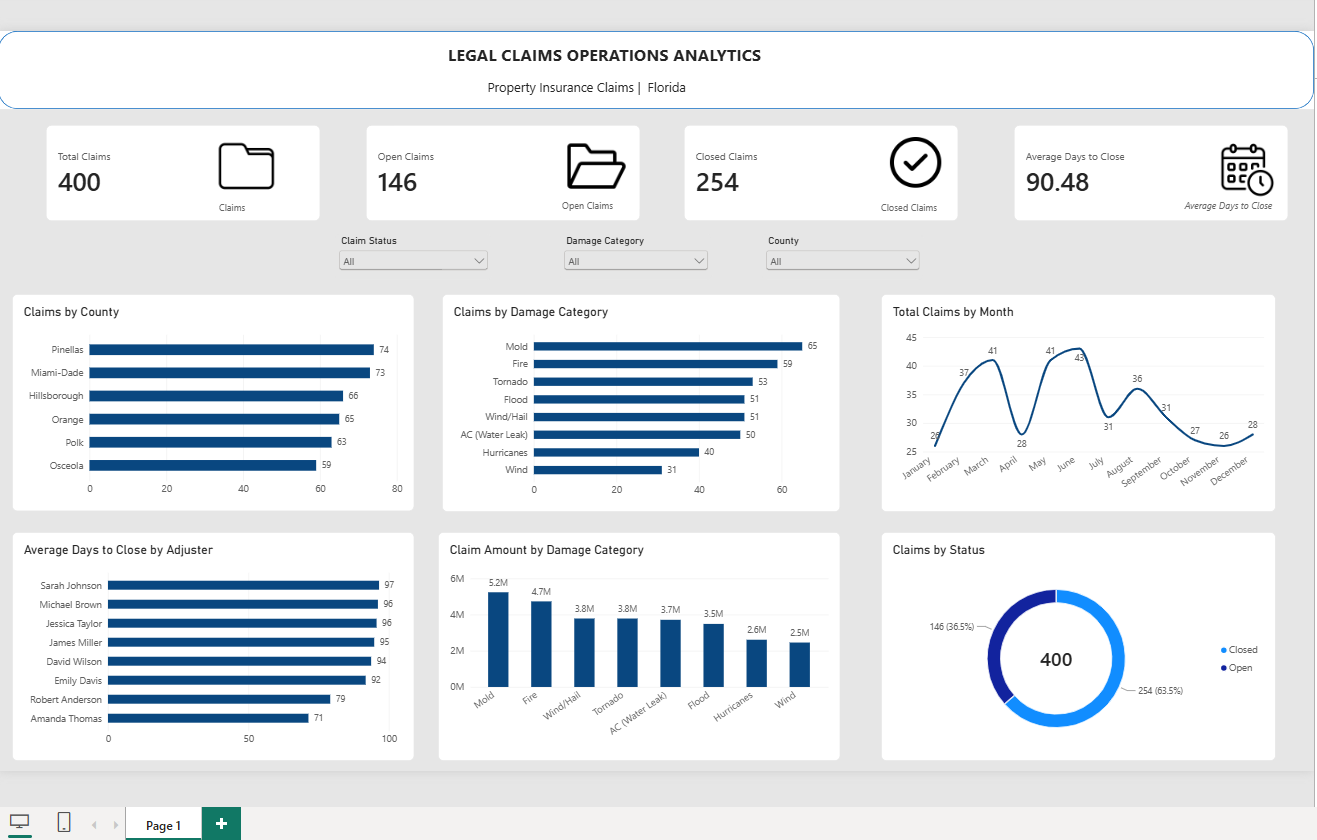

Layout of this report page (visuals, bound fields, positions):
{"tool":"powerbi","page":{"name":"Page 1","canvas":[1920,1080],"ordinal":0},"visuals":[{"type":"shape","box":[0,0,1920,113.8],"z":0},{"type":"cardVisual","fields":{"Data":["Claims.Total Claims"]},"box":[70,137.1,400,140],"z":1000},{"type":"cardVisual","fields":{"Data":["Claims.Open Claims"]},"box":[536.9,137.1,400,140],"z":2000},{"type":"cardVisual","fields":{"Data":["Claims.Closed Claims"]},"box":[1000.9,137.1,400,140],"z":3000},{"type":"cardVisual","fields":{"Data":["Claims.Average Days to Close"]},"box":[1482.3,137.1,400,140],"z":4000},{"type":"clusteredBarChart","title":"Claims by County","fields":{"Category":["Claims.County"],"Y":["Claims.Total Claims"]},"box":[20.4,383.7,586.5,316.6],"z":5000},{"type":"clusteredBarChart","title":"Claims by Damage Category","fields":{"Category":["Claims.Damage Category"],"Y":["Claims.Total Claims"]},"box":[647.8,383.7,580.7,318.1],"z":6000},{"type":"columnChart","title":"Claim Amount by Damage Category","fields":{"Category":["Claims.Damage Category"],"Y":["Sum(Claims.Claim Amount)"]},"box":[641.9,730.9,586.5,334.1],"z":7000},{"type":"donutChart","title":"Claims by Status","fields":{"Category":["Claims.Claim Status"],"Y":["Claims.Total Claims"]},"box":[1288.3,730.9,576.3,334.1],"z":8000},{"type":"clusteredBarChart","title":"Average Days to Close by Adjuster","fields":{"Category":["Claims.Adjuster"],"Y":["Claims.Average Days to Close"]},"box":[20.4,730.9,586.5,334.1],"z":9000},{"type":"textbox","box":[656.5,17.5,803.9,77.3],"z":10000},{"type":"image","box":[1781.4,156.1,83.2,93.4],"z":11000},{"type":"image","box":[1288.3,154.7,100.7,74.4],"z":12000},{"type":"image","box":[809.7,154.7,126.9,84.6],"z":13000},{"type":"image","box":[303.5,154.7,118.2,84.6],"z":14000},{"type":"textbox","box":[322.4,248,255.3,49.6],"z":15000},{"type":"textbox","box":[822.9,245.1,255.3,64.2],"z":16000},{"type":"textbox","box":[1288.3,248,255.3,64.2],"z":17000},{"type":"textbox","box":[1727.4,245.1,192.6,45.2],"z":18000},{"type":"slicer","fields":{"Values":["Claims.Claim Status"]},"box":[491.7,296.2,229.1,67.1],"z":19000},{"type":"slicer","fields":{"Values":["Claims.Damage Category"]},"box":[819.9,296.2,221.8,67.1],"z":20000},{"type":"slicer","fields":{"Values":["Claims.County"]},"box":[1114.7,296.2,236.4,67.1],"z":21000},{"type":"lineChart","title":"Total Claims by Month","fields":{"Category":["Claims.Date Opened.Variation.Date Hierarchy.Month"],"Y":["Claims.Total Claims"]},"box":[1288.3,383.7,576.3,318.1],"z":22000}]}

Visuals, with their boxes on the page's 1920x1080 design canvas (x1, y1, x2, y2). These are canvas units, not pixel positions in the 1317x840 screenshot, which may show the page scaled, cropped or inside an application window:
shape: {"x1": 0, "y1": 0, "x2": 1920, "y2": 114}
cardVisual - Claims.Total Claims: {"x1": 70, "y1": 137, "x2": 470, "y2": 277}
cardVisual - Claims.Open Claims: {"x1": 537, "y1": 137, "x2": 937, "y2": 277}
cardVisual - Claims.Closed Claims: {"x1": 1001, "y1": 137, "x2": 1401, "y2": 277}
cardVisual - Claims.Average Days to Close: {"x1": 1482, "y1": 137, "x2": 1882, "y2": 277}
"Claims by County" clusteredBarChart: {"x1": 20, "y1": 384, "x2": 607, "y2": 700}
"Claims by Damage Category" clusteredBarChart: {"x1": 648, "y1": 384, "x2": 1228, "y2": 702}
"Claim Amount by Damage Category" columnChart: {"x1": 642, "y1": 731, "x2": 1228, "y2": 1065}
"Claims by Status" donutChart: {"x1": 1288, "y1": 731, "x2": 1865, "y2": 1065}
"Average Days to Close by Adjuster" clusteredBarChart: {"x1": 20, "y1": 731, "x2": 607, "y2": 1065}
textbox: {"x1": 656, "y1": 18, "x2": 1460, "y2": 95}
image: {"x1": 1781, "y1": 156, "x2": 1865, "y2": 250}
image: {"x1": 1288, "y1": 155, "x2": 1389, "y2": 229}
image: {"x1": 810, "y1": 155, "x2": 937, "y2": 239}
image: {"x1": 304, "y1": 155, "x2": 422, "y2": 239}
textbox: {"x1": 322, "y1": 248, "x2": 578, "y2": 298}
textbox: {"x1": 823, "y1": 245, "x2": 1078, "y2": 309}
textbox: {"x1": 1288, "y1": 248, "x2": 1544, "y2": 312}
textbox: {"x1": 1727, "y1": 245, "x2": 1920, "y2": 290}
slicer - Claims.Claim Status: {"x1": 492, "y1": 296, "x2": 721, "y2": 363}
slicer - Claims.Damage Category: {"x1": 820, "y1": 296, "x2": 1042, "y2": 363}
slicer - Claims.County: {"x1": 1115, "y1": 296, "x2": 1351, "y2": 363}
"Total Claims by Month" lineChart: {"x1": 1288, "y1": 384, "x2": 1865, "y2": 702}
